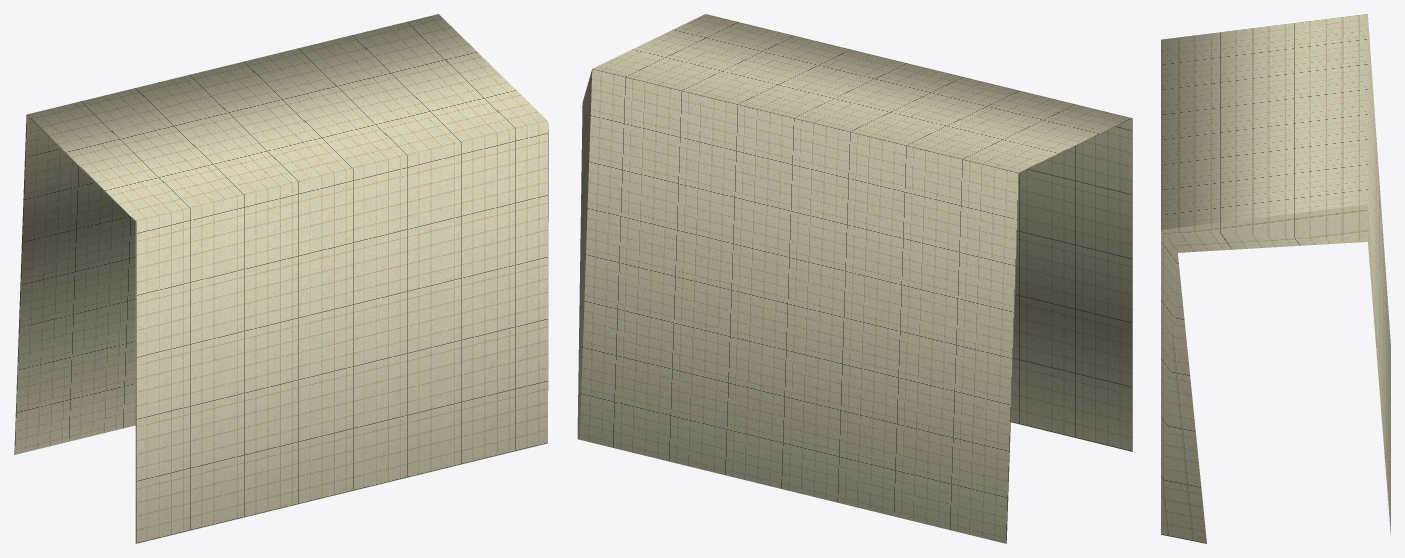
File: 4622floor000_c.gltf
The picture shows the model from 3 angles, left to right: view 1: azimuth 30°, elevation 25°; view 2: azimuth 150°, elevation 25°; view 3: azimuth 270°, elevation 25°; orthographic projection. The views are drawn at different scales.
Parts seen in each view (by area): view 1: 4622floor000_c; view 2: 4622floor000_c; view 3: 4622floor000_c.
Part boxes in pixels (x1=…): 4622floor000_c: x1=14, y1=14, x2=548, y2=543; 4622floor000_c: x1=577, y1=14, x2=1132, y2=543; 4622floor000_c: x1=1161, y1=14, x2=1390, y2=543.
Bounding box in the file's own units: 2.05 × 1.59 × 1.
Materials: 1 (1 with a texture image).
